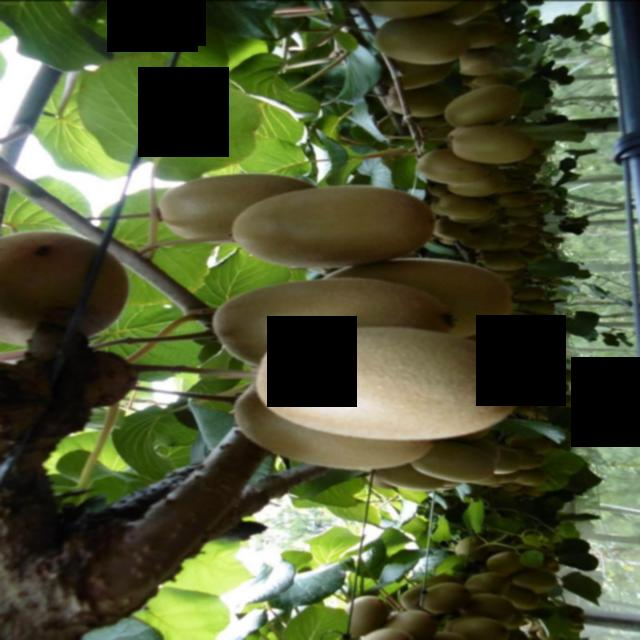kiwi: (251, 328, 527, 444), (215, 274, 464, 370), (231, 384, 437, 474), (1, 227, 131, 369), (311, 256, 521, 340), (225, 186, 428, 267), (157, 173, 322, 249), (363, 15, 471, 63), (439, 121, 537, 164), (408, 439, 495, 484), (437, 84, 527, 127), (411, 148, 498, 184), (380, 82, 457, 118), (367, 463, 445, 493), (384, 60, 460, 90), (343, 595, 391, 638), (385, 608, 443, 640), (459, 592, 517, 623), (352, 2, 464, 18), (425, 192, 492, 218), (443, 171, 509, 197), (459, 17, 511, 49), (421, 583, 472, 615), (428, 215, 477, 243), (452, 618, 513, 640), (490, 312, 541, 338), (451, 53, 503, 77), (461, 572, 511, 596), (510, 569, 558, 594), (499, 584, 541, 610), (460, 229, 508, 251), (451, 535, 489, 562), (486, 550, 526, 574), (486, 446, 521, 473), (481, 253, 526, 271), (356, 627, 418, 640), (496, 191, 538, 209), (516, 298, 557, 316), (513, 467, 549, 487), (513, 449, 548, 469), (505, 336, 540, 354), (520, 367, 551, 387), (465, 72, 499, 90), (526, 435, 556, 455), (549, 367, 579, 385), (494, 213, 535, 226), (512, 285, 545, 301), (520, 354, 550, 371), (507, 224, 543, 238), (543, 354, 569, 372), (491, 470, 523, 484), (555, 394, 585, 408), (432, 629, 469, 640), (504, 207, 540, 218), (534, 627, 564, 640), (539, 553, 563, 569), (505, 235, 531, 249), (543, 382, 573, 394), (501, 479, 525, 493), (524, 487, 549, 498), (507, 179, 529, 191), (565, 615, 586, 626), (530, 240, 548, 252)
